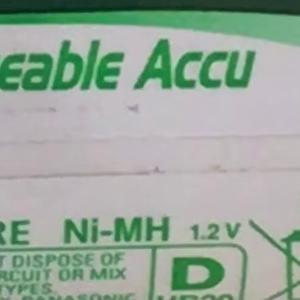keyword: (59, 208, 171, 259)
